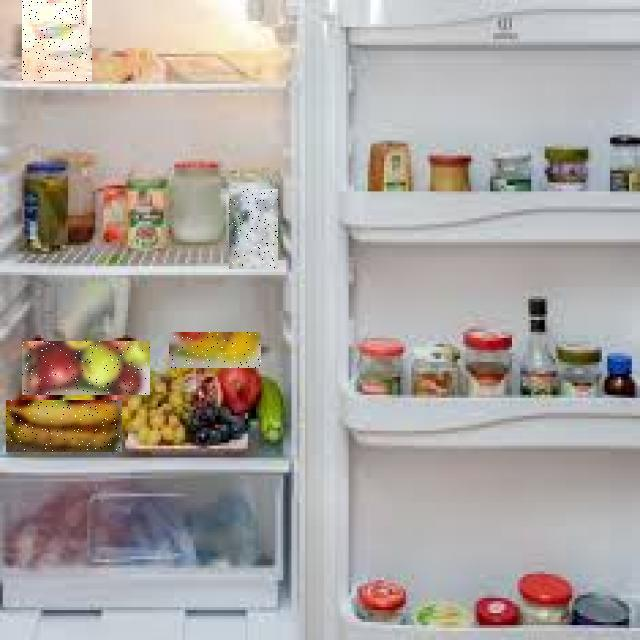Apple: (22, 341, 150, 395)
Banana: (6, 400, 122, 452)
Cheese: (22, 0, 92, 81)
Lemon: (169, 332, 261, 368)
Yoghurt: (229, 189, 278, 269)
